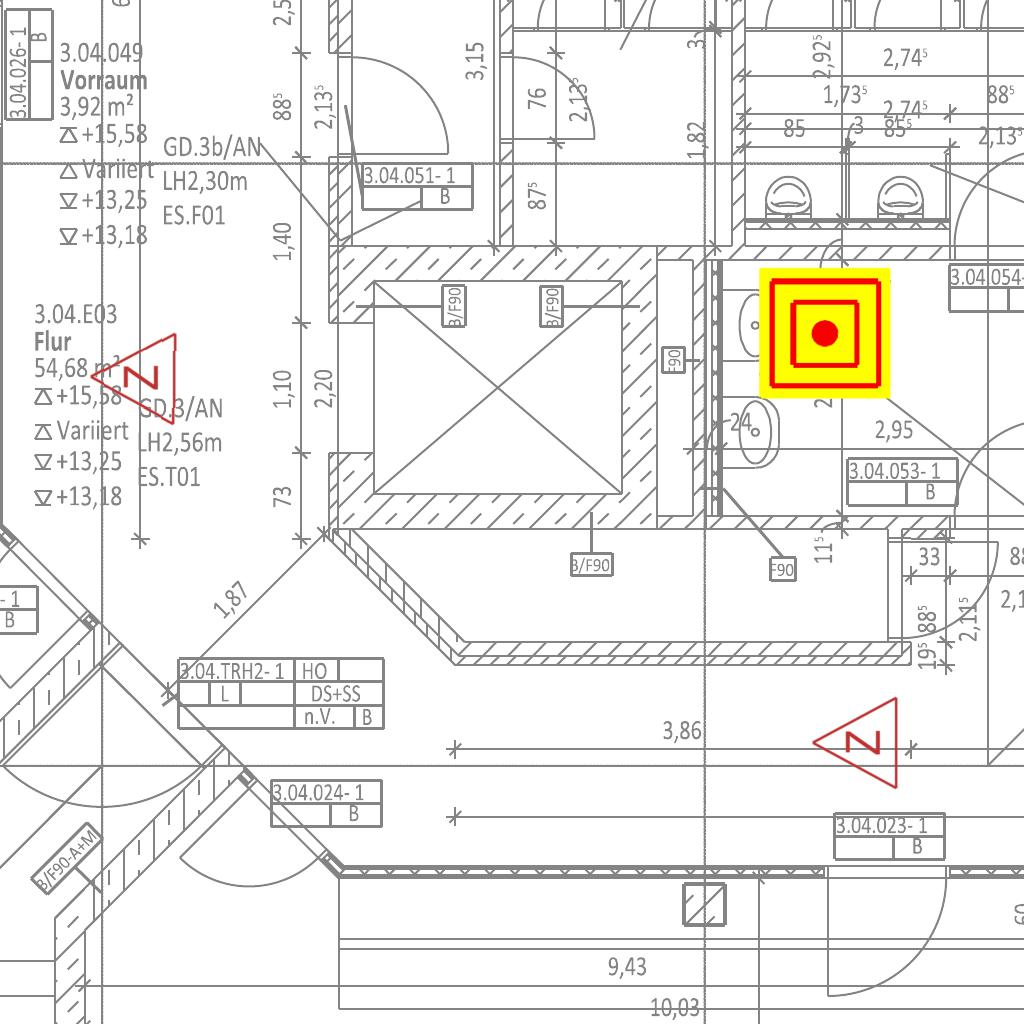NAM-Nichtautomatischer_Melder: (759, 267, 891, 399)
Zimmersignalleuchte: (82, 329, 184, 429), (805, 695, 905, 793)
